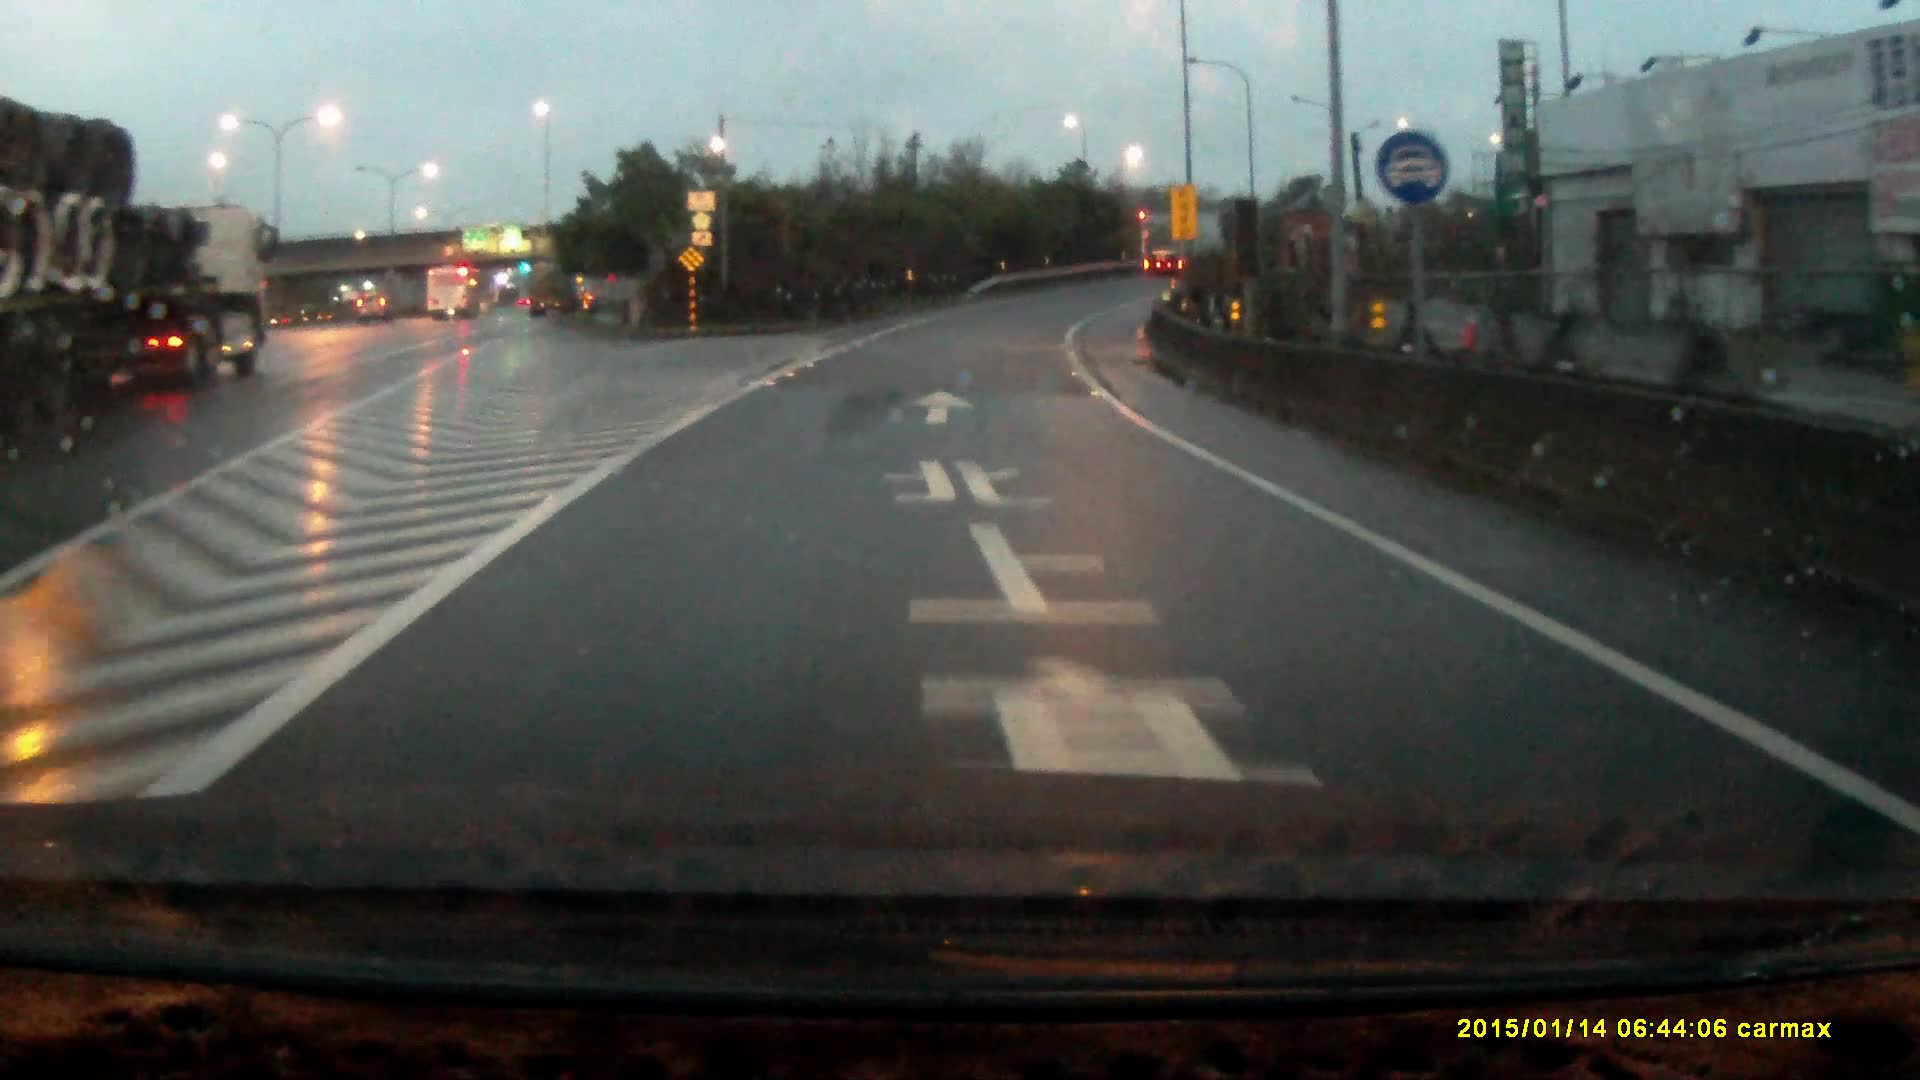vehicle: (1, 102, 282, 419), (1139, 214, 1232, 277), (426, 262, 487, 320), (356, 291, 392, 322)
